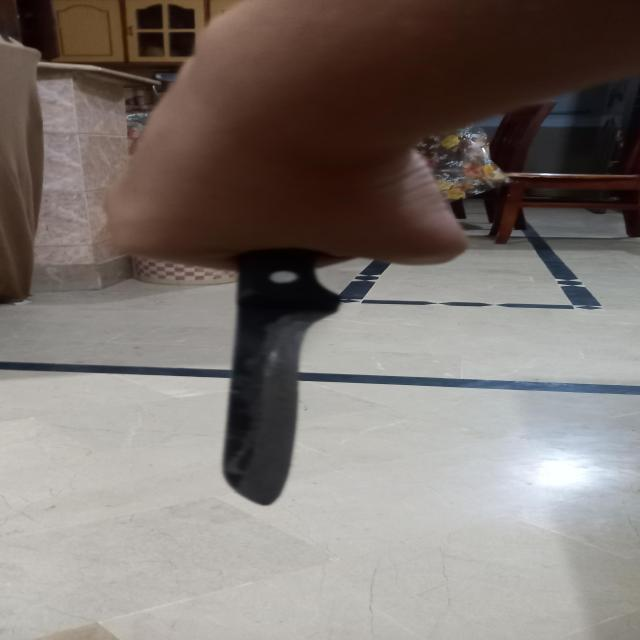faca: (214, 236, 344, 506)
